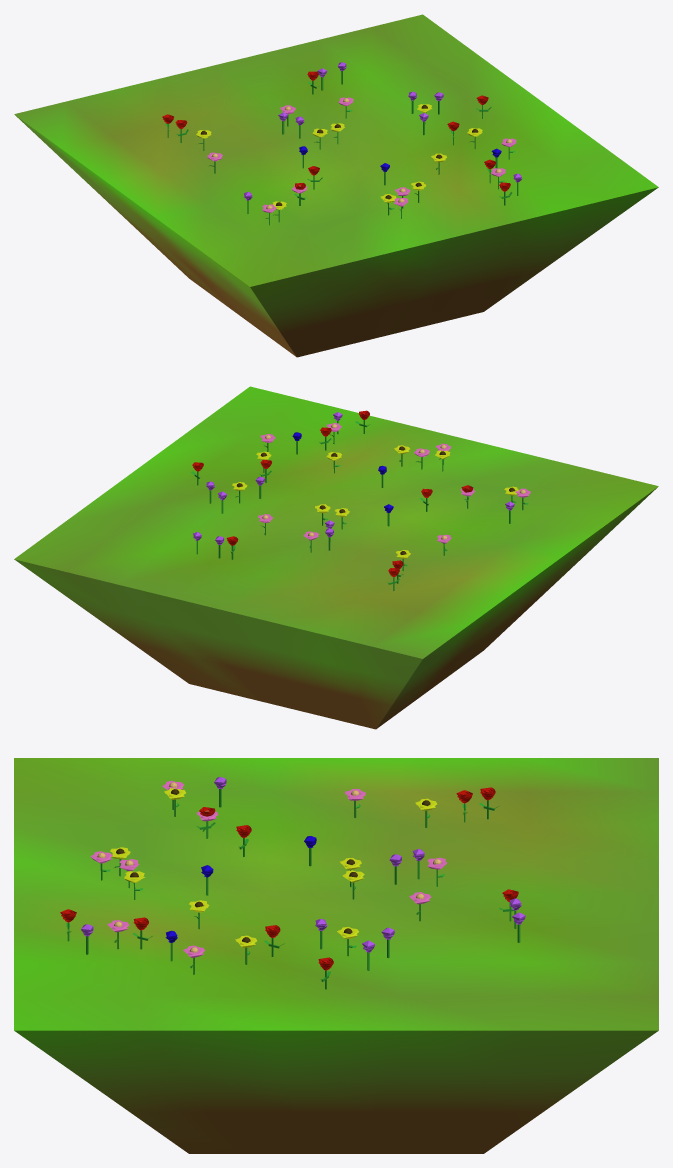
3 views of the same model, one above another, from view 1: azimuth 30°, elevation 25°; view 2: azimuth 150°, elevation 25°; view 3: azimuth 270°, elevation 25° (orthographic). The views are drawn at different scales.
Parts seen in each view (by area): view 1: Base.002; view 2: Base.002; view 3: Base.002.
Boxes of the visible parts, x1=… form: Base.002: x1=14, y1=14, x2=658, y2=357; Base.002: x1=14, y1=386, x2=658, y2=729; Base.002: x1=14, y1=758, x2=658, y2=1153.
Bounding box in the file's own units: 14.36 × 5.58 × 14.36.
